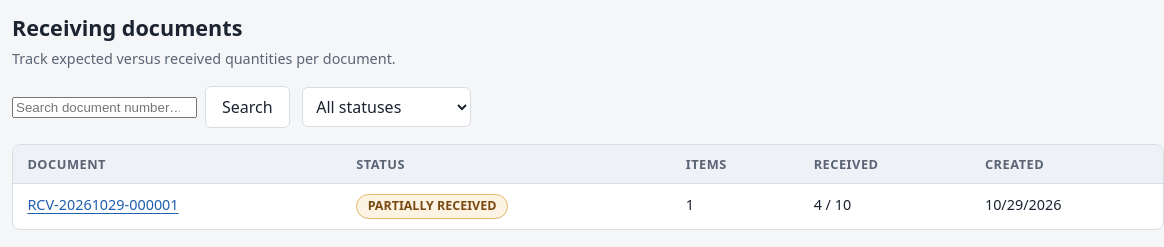
it: business screens › lists receiving documents with status filter and pagination
Expected: the button "RCV-20261029-000001" is shown, [27,194,179,216]
Select "Pending" in the dropdown named "Filter by status" at (386, 107), box [302,87,471,127]
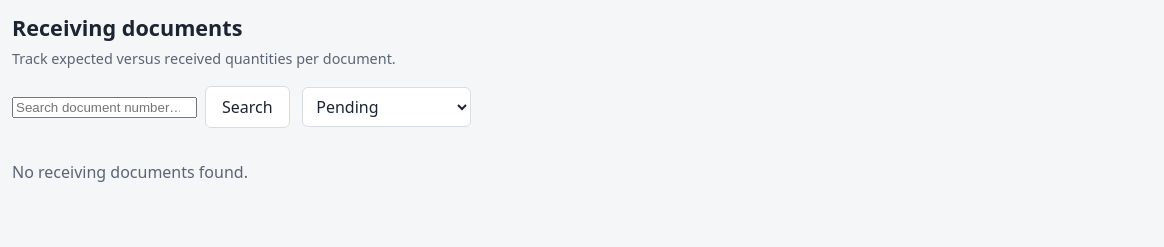
Result: the text "No receiving documents found." is shown at [12,161,248,183]
